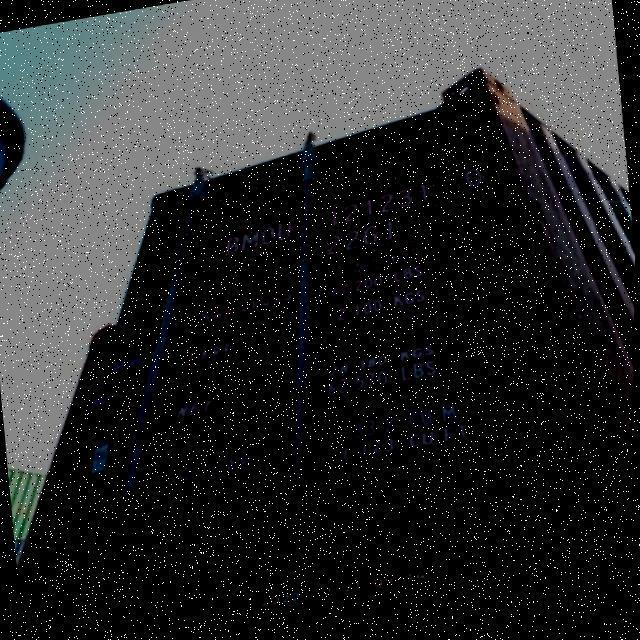container_number_h: (161, 151, 517, 290)
